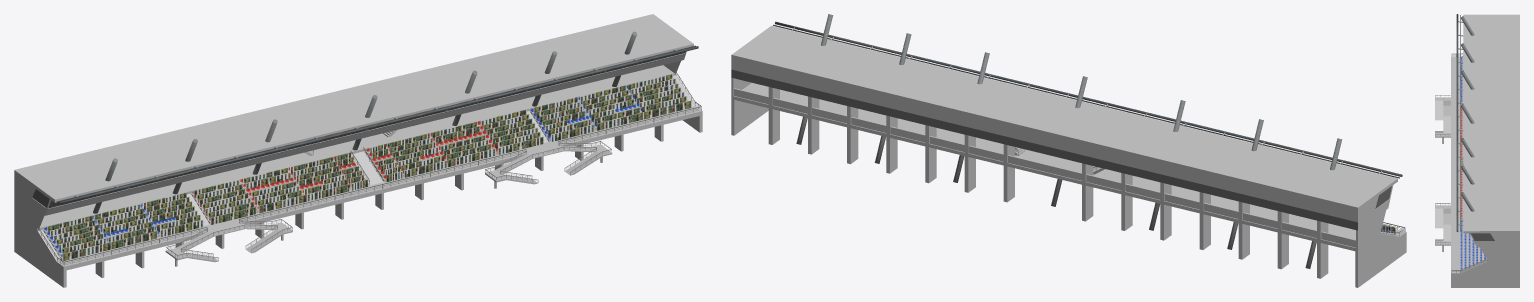
File: GrandStand-07.fbx
The picture shows the model from 3 angles, left to right: view 1: azimuth 30°, elevation 25°; view 2: azimuth 150°, elevation 25°; view 3: azimuth 270°, elevation 25°; orthographic projection. The views are drawn at different scales.
Parts seen in each view (by area): view 1: GrandStand-07, Audience; view 2: GrandStand-07; view 3: GrandStand-07.
Part boxes in pixels (x1,y1,x2,y2): GrandStand-07: (14,14,702,287); Audience: (47,73,691,260); GrandStand-07: (731,14,1406,287); GrandStand-07: (1435,14,1519,287).
Size of the model in its own units: 16000 by 2646 by 2644.
